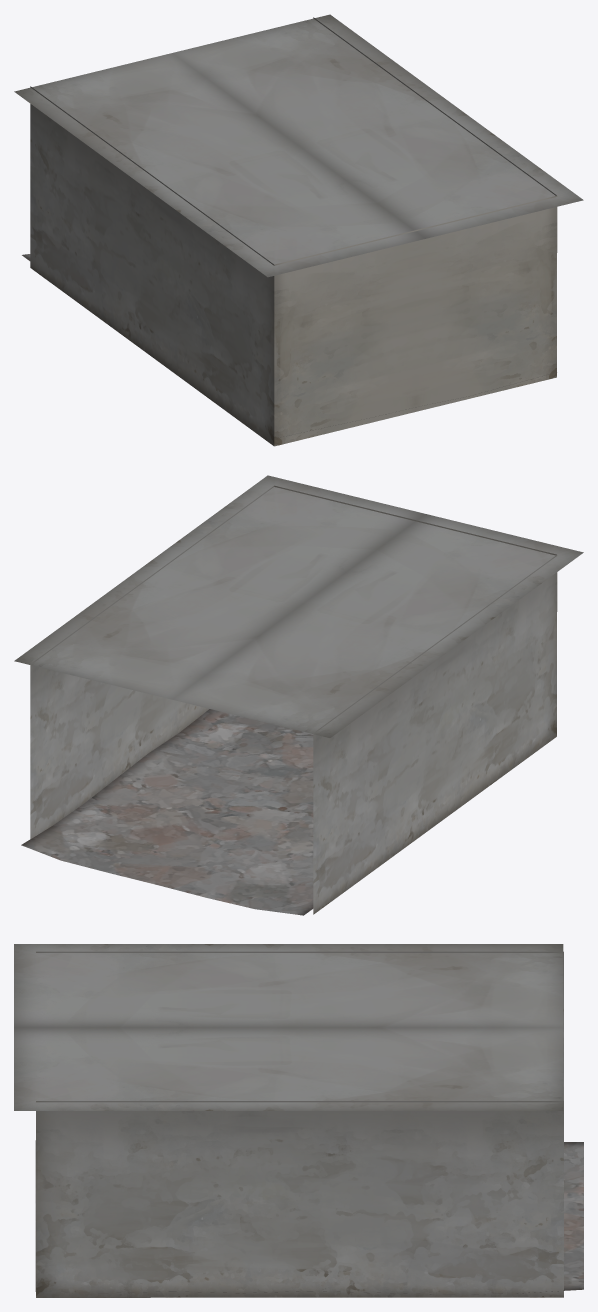
Rendered from Garage.fbx.
The picture shows the model from 3 angles, top to bottom: view 1: azimuth 30°, elevation 25°; view 2: azimuth 150°, elevation 25°; view 3: azimuth 270°, elevation 25°; orthographic projection. The views are drawn at different scales.
Visible parts, largest first — view 1: Object001; view 2: Object001; view 3: Object001.
Boxes of the visible parts, left/top/right/bottom form: Object001: left=14, top=14, right=583, bottom=446; Object001: left=14, top=475, right=583, bottom=915; Object001: left=14, top=944, right=583, bottom=1297.
Bounding box in the file's own units: 307 × 169 × 442.
